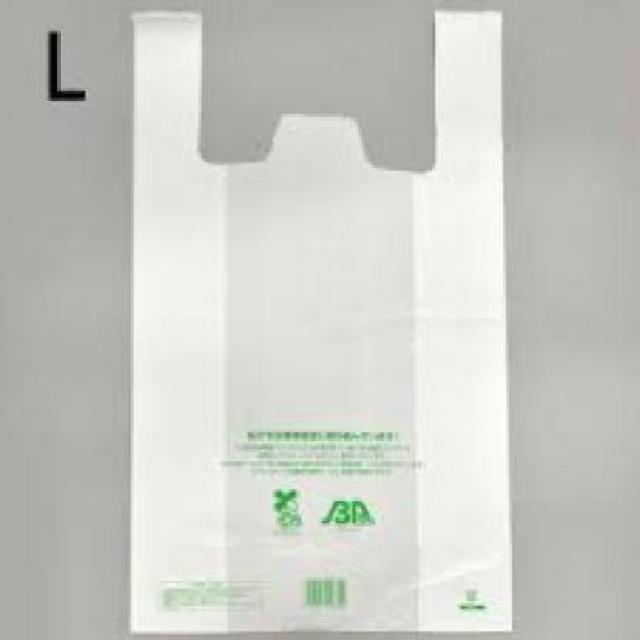plastic: (121, 6, 512, 629)
